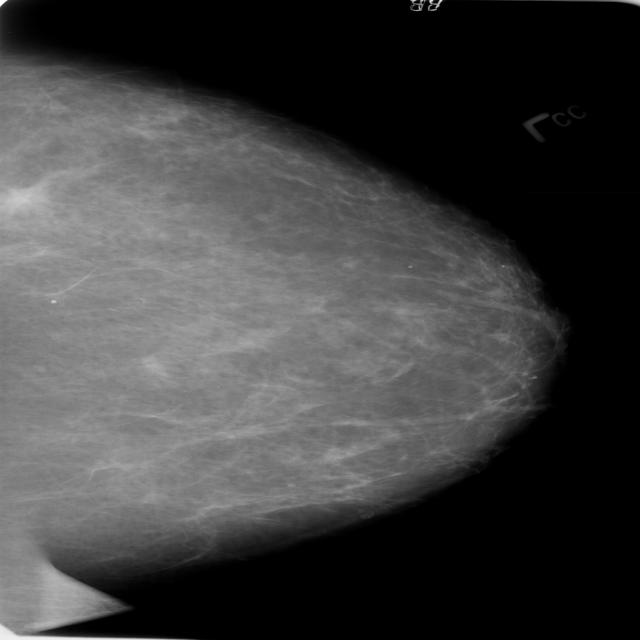normal: (0, 45, 580, 557)
